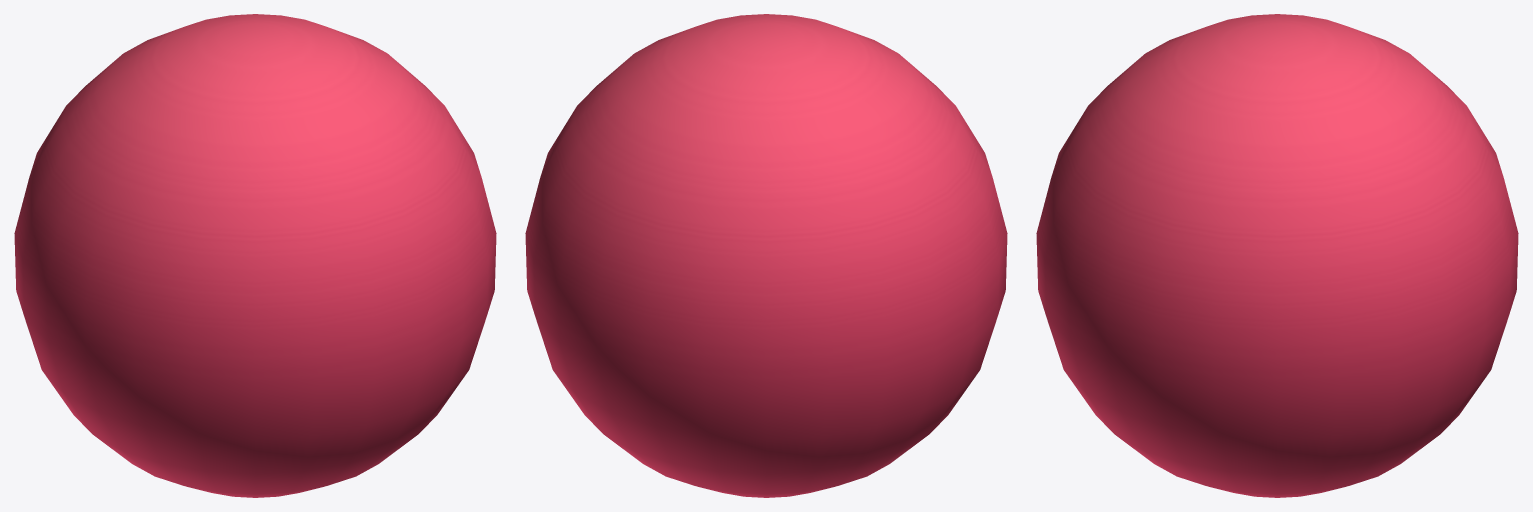
The model's file is ball-red.fbx.
3 views of the same model, side by side, from view 1: azimuth 30°, elevation 25°; view 2: azimuth 150°, elevation 25°; view 3: azimuth 270°, elevation 25° (orthographic).
Visible parts, largest first — view 1: ball_red; view 2: ball_red; view 3: ball_red.
Boxes of the visible parts, x1,y1,x2,y2 form: ball_red: (14, 14, 496, 497); ball_red: (525, 14, 1007, 497); ball_red: (1036, 14, 1518, 497).
Size of the model in its own units: 6.99 by 6.98 by 6.99.
Materials: 1 (1 with a texture image).
